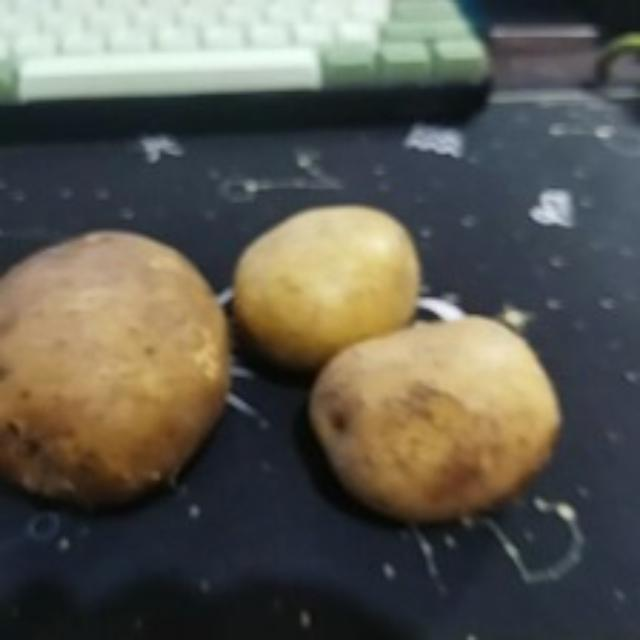Damaged potato: (0, 228, 232, 514), (303, 317, 561, 529)
Potato: (236, 205, 424, 375)
